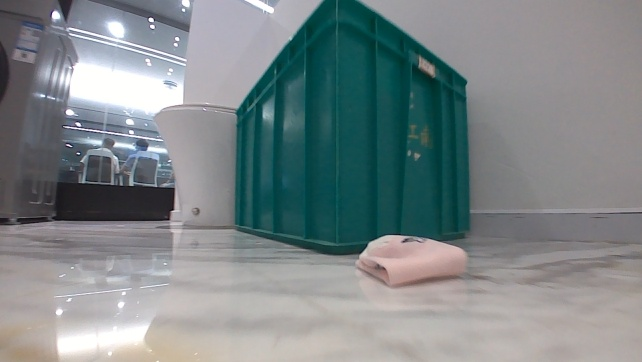socks: (352, 231, 474, 286)
toilet: (153, 95, 239, 228)
washing_machine1: (0, 1, 80, 229)
